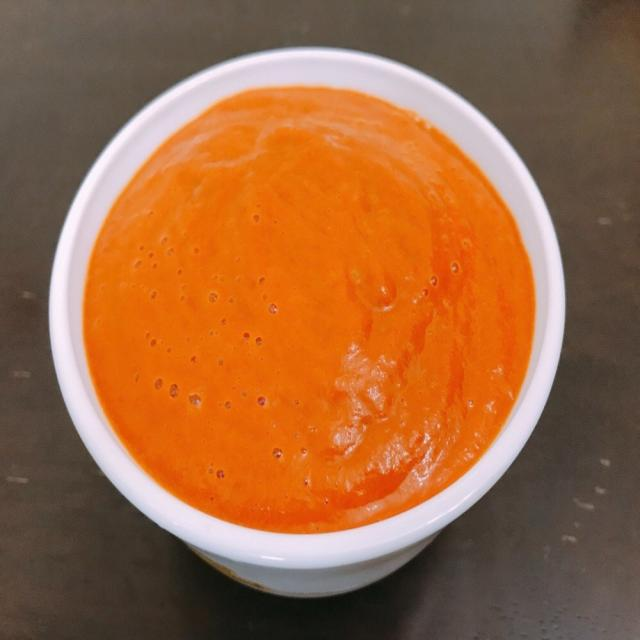kaara chutney: (66, 63, 554, 568)
